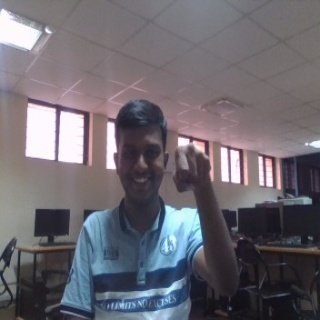Yes: (170, 141, 215, 201)
